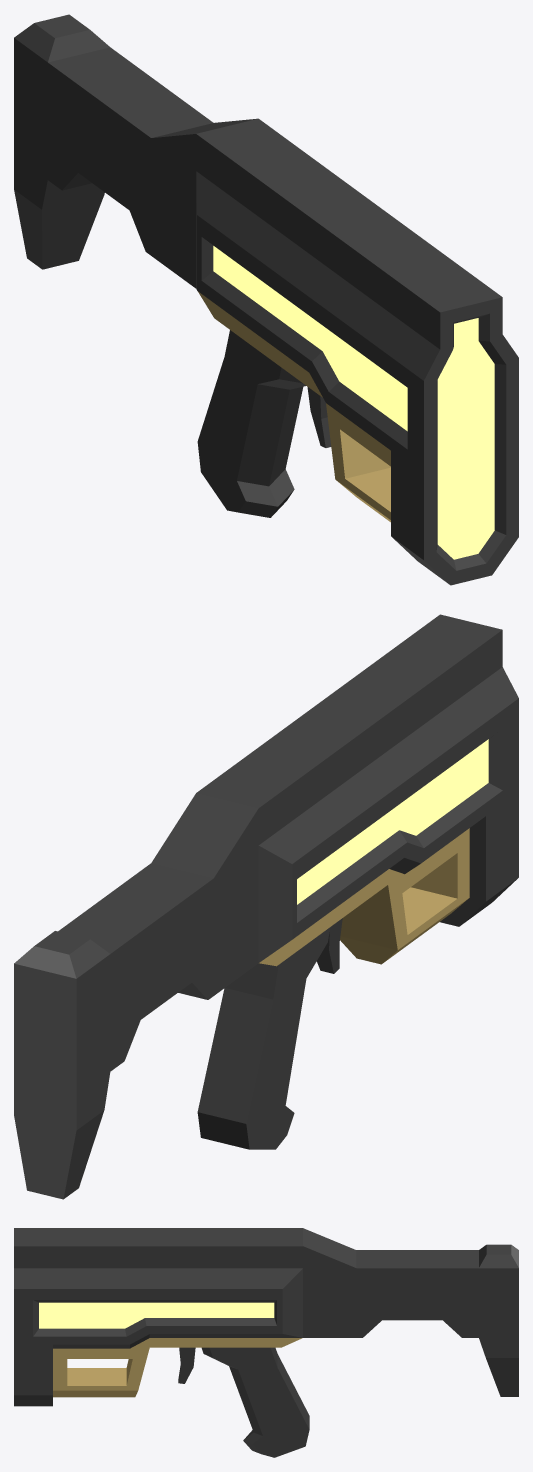
File: CompactCharger.fbx
3 renders of one model, top to bottom at view 1: azimuth 30°, elevation 25°; view 2: azimuth 150°, elevation 25°; view 3: azimuth 270°, elevation 25°, orthographic. The views are drawn at different scales.
Visible parts, largest first — view 1: CompactCharger; view 2: CompactCharger; view 3: CompactCharger.
Part boxes in pixels (x1,y1,x2,y2): CompactCharger: (14,14,518,585); CompactCharger: (14,614,518,1199); CompactCharger: (14,1228,518,1457).
Size of the model in its own units: 58.97 by 217 by 458.
